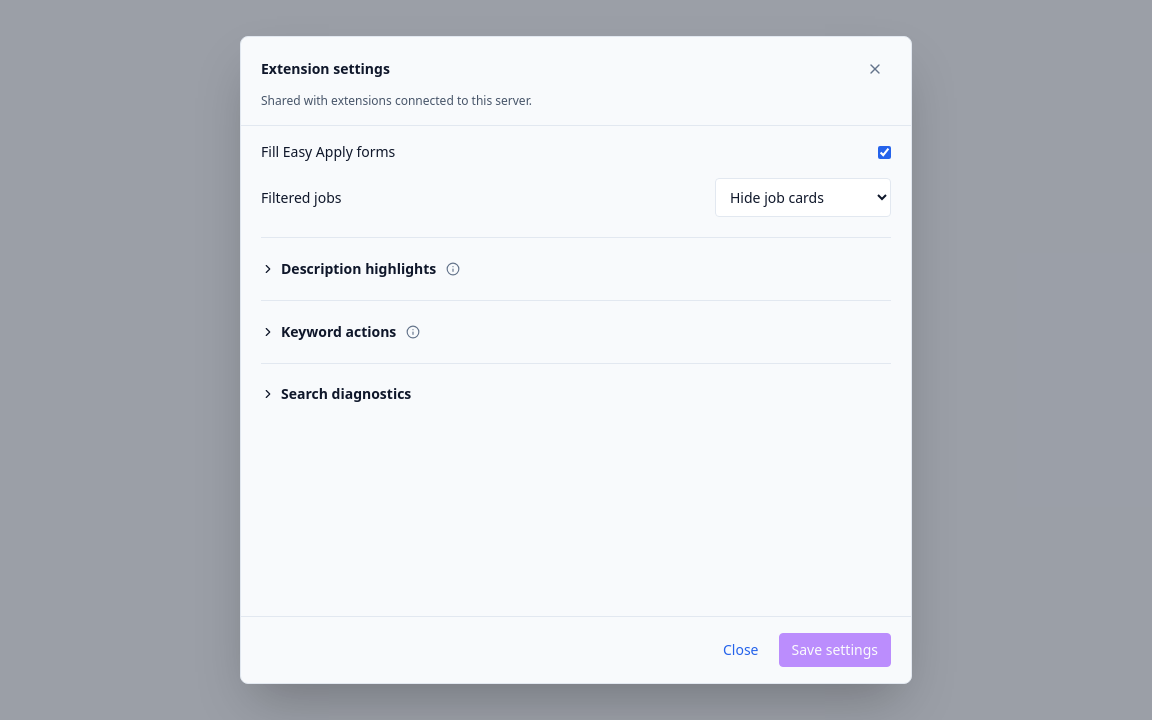
Extension settings › saves shared settings with the fetched revision and preserves empty disabled highlights
The width and height of the screenshot is (1152, 720).
Expected: the button "Save settings" is disabled, left=778, top=633, right=891, bottom=667
Click the checkbox labelled "Fill Easy Apply forms" at (884, 152), box left=878, top=146, right=891, bottom=158
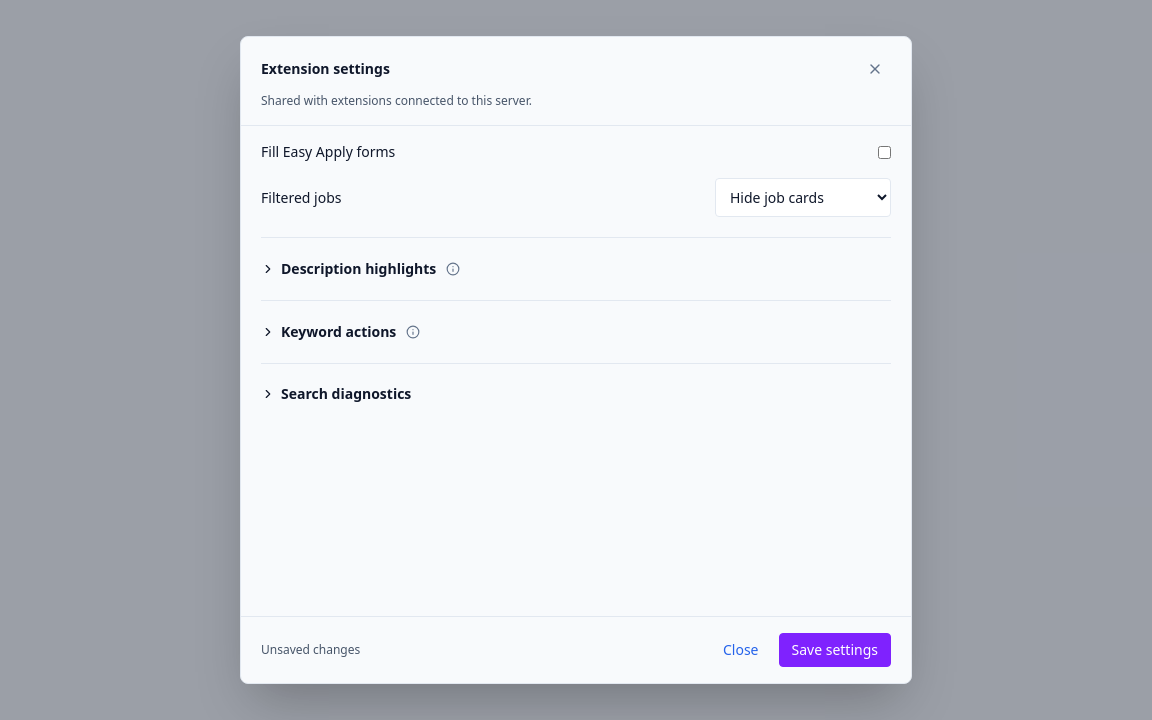
Result: the button "Save settings" is enabled
Click the button "Save settings" at (835, 650), box left=778, top=633, right=891, bottom=667
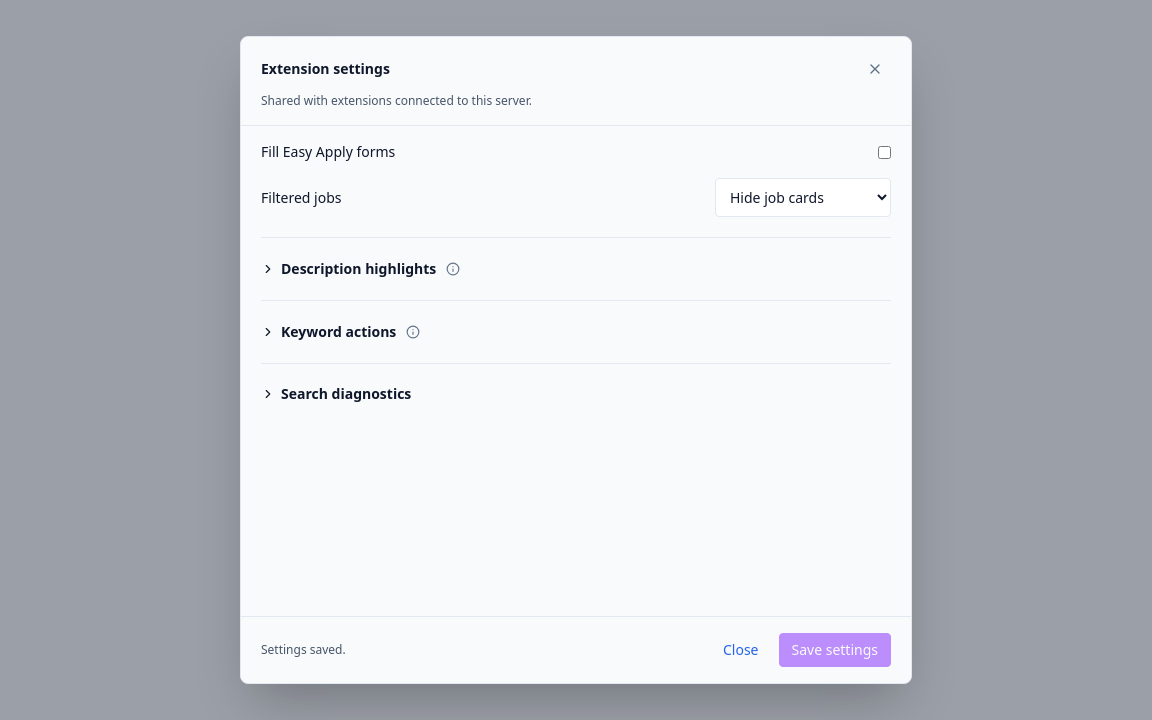
Result: the text "Settings saved." is shown at left=261, top=642, right=346, bottom=658
Result: the button "Save settings" is disabled at left=778, top=633, right=891, bottom=667
Click the heading "Description highlights" at (363, 269), box left=261, top=258, right=464, bottom=280
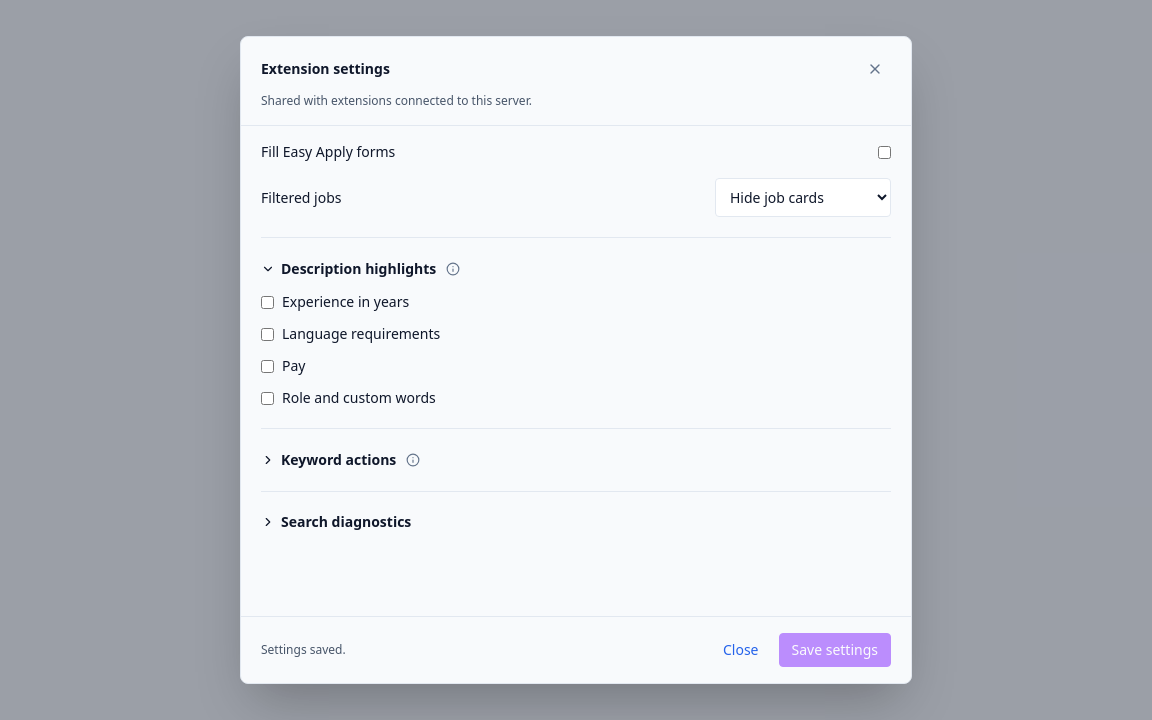
Result: the checkbox labelled "Role and custom words" is not checked at left=261, top=392, right=274, bottom=404
